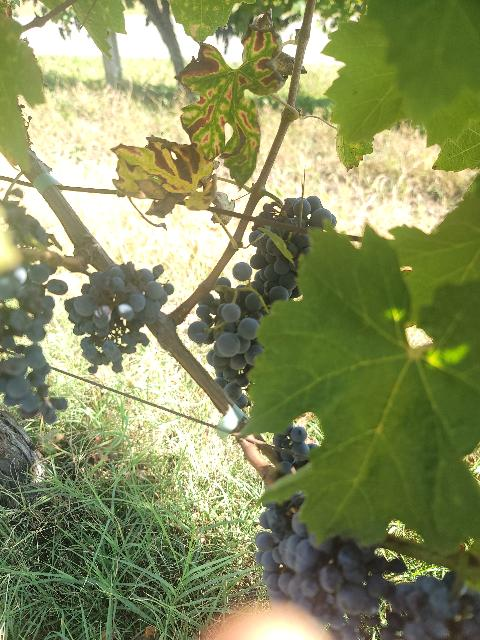grapes: (255, 492, 389, 640), (65, 262, 174, 374), (0, 262, 68, 422), (188, 278, 266, 408), (249, 195, 336, 304)
